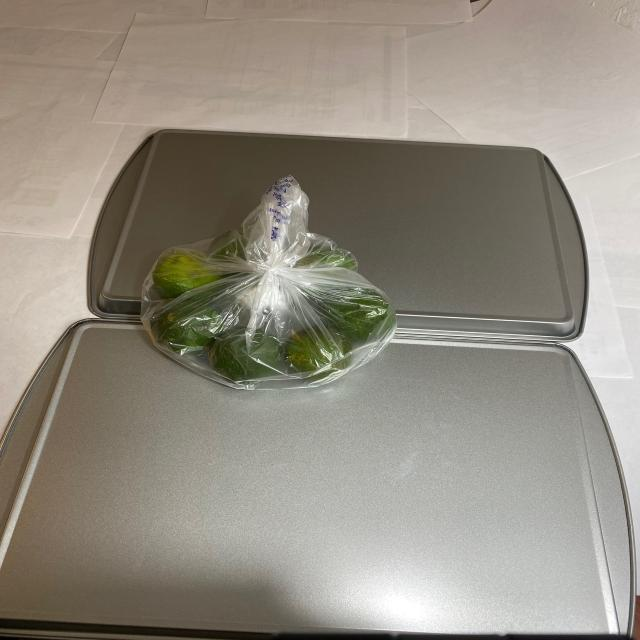lemon: (150, 230, 396, 390)
